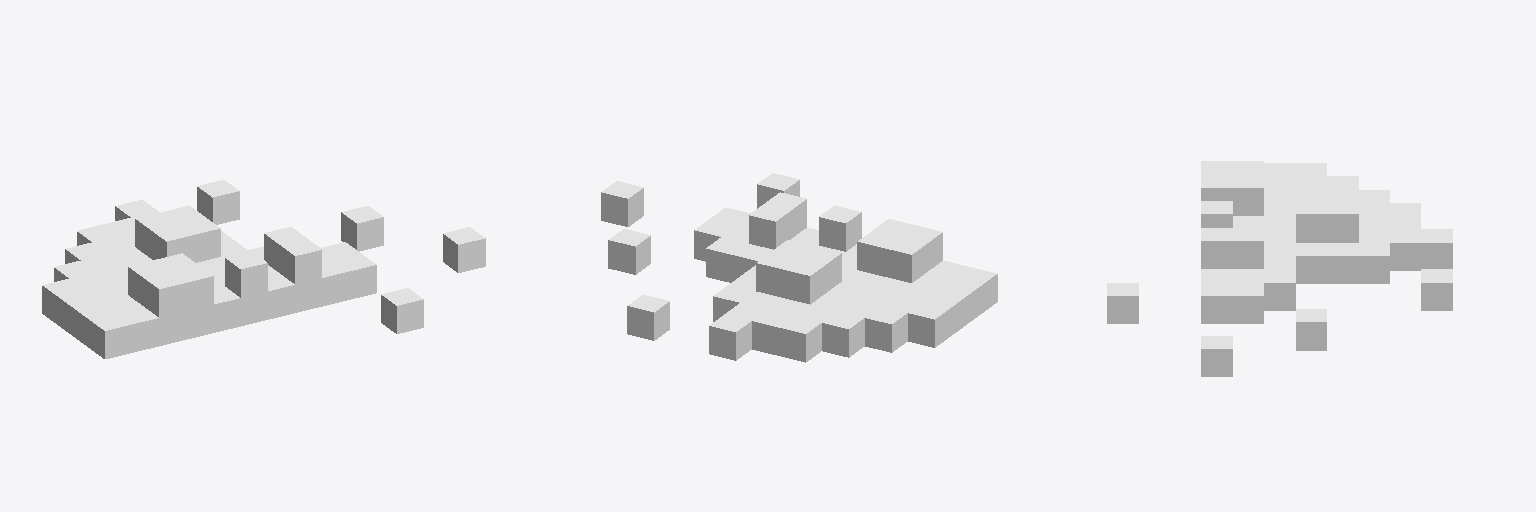
The model's file is pizza1.obj.
3 views of the same model, side by side, from view 1: azimuth 30°, elevation 25°; view 2: azimuth 150°, elevation 25°; view 3: azimuth 270°, elevation 25° (orthographic).
Size of the model in its own units: 0.7 by 0.1 by 0.55.